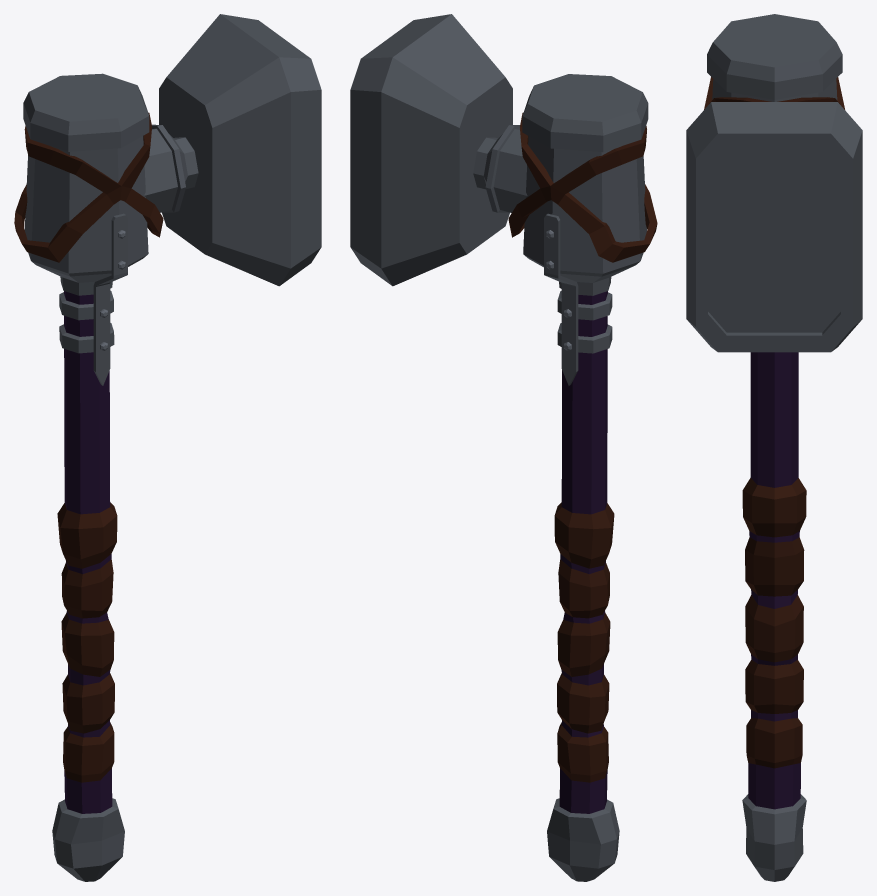
Rendered from Hammer_Small.glb.
3 renders of one model, left to right at view 1: azimuth 30°, elevation 25°; view 2: azimuth 150°, elevation 25°; view 3: azimuth 270°, elevation 25°, orthographic. The views are drawn at different scales.
Visible parts, largest first — view 1: Hammer_Small; view 2: Hammer_Small; view 3: Hammer_Small.
Boxes of the visible parts, x1,y1,x2,y2 form: Hammer_Small: (14,14,321,881); Hammer_Small: (350,14,657,881); Hammer_Small: (686,14,862,881).
Size of the model in its own units: 0.1579 by 0.46 by 0.0856.
